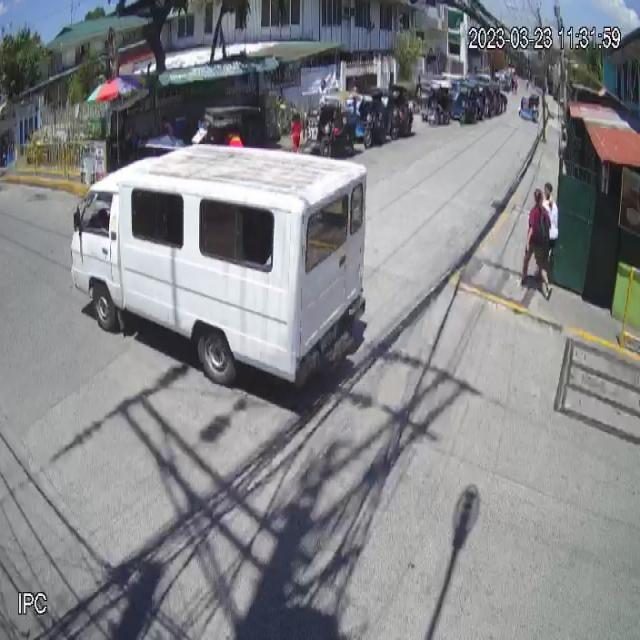Van: (70, 144, 368, 394)
